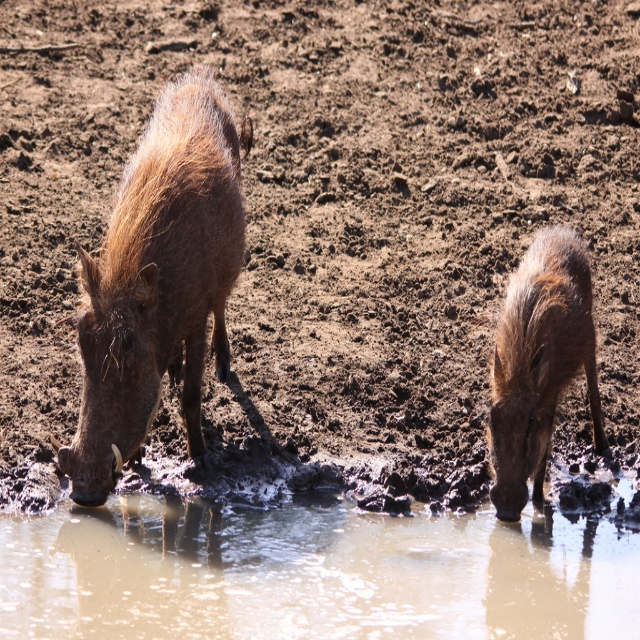Pig: (56, 61, 249, 510), (487, 223, 614, 523)
